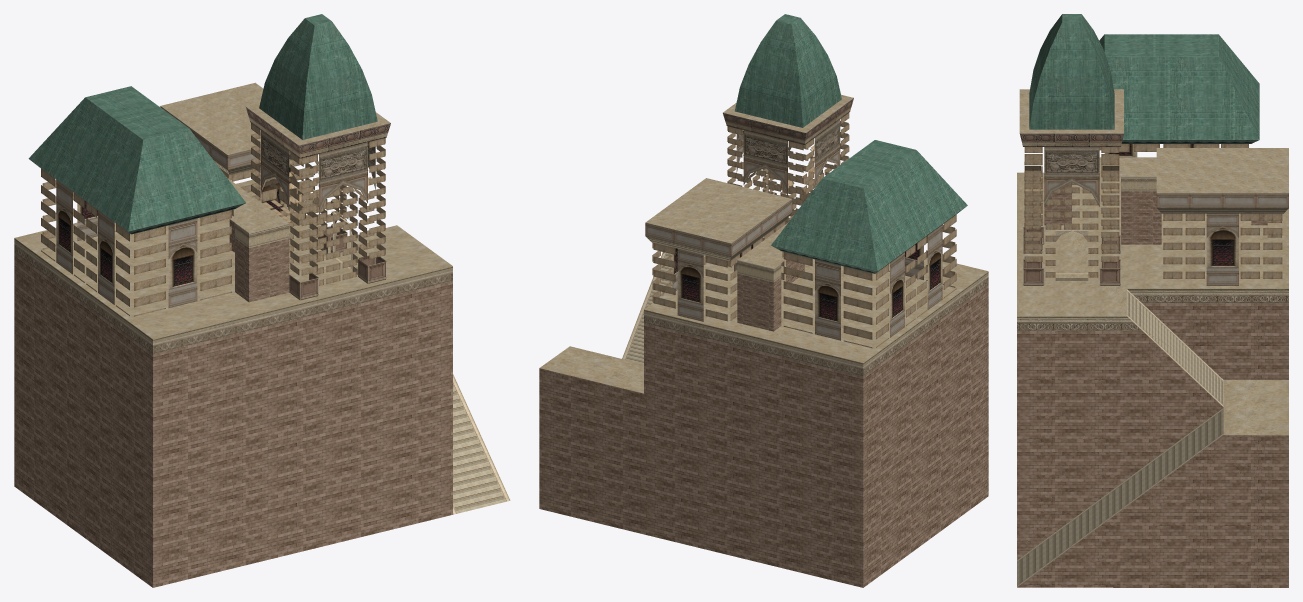
The model's file is ply_nboo_house_sm_s02_fp1_r0_mesh_l1.fbx.
3 views of the same model, side by side, from view 1: azimuth 30°, elevation 25°; view 2: azimuth 150°, elevation 25°; view 3: azimuth 270°, elevation 25° (orthographic). The views are drawn at different scales.
Visible parts, largest first — view 1: mesh_node; view 2: mesh_node; view 3: mesh_node.
Part boxes in pixels (left/top/right/bottom): mesh_node: left=14, top=14, right=510, bottom=587; mesh_node: left=539, top=14, right=988, bottom=587; mesh_node: left=1017, top=14, right=1288, bottom=587.
Size of the model in its own units: 24.94 by 33.22 by 16.67.
